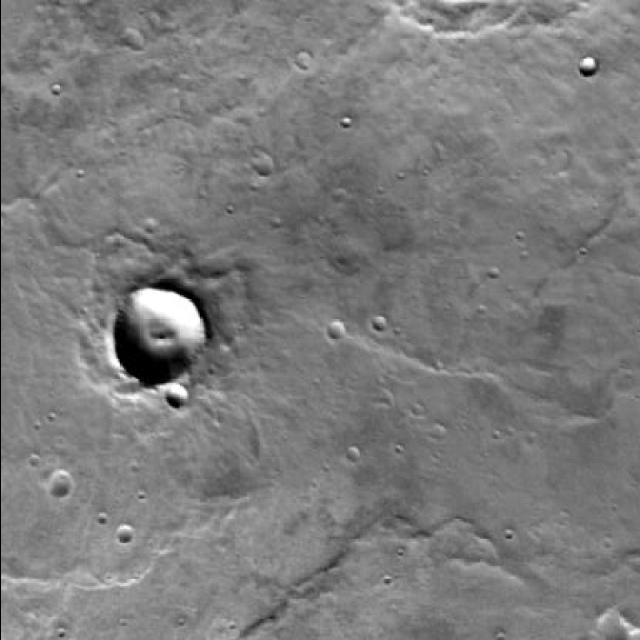crater: (111, 290, 206, 387), (596, 605, 630, 640), (167, 383, 190, 406), (48, 474, 68, 496), (124, 29, 144, 51), (255, 156, 273, 176), (578, 56, 596, 74), (324, 320, 342, 338), (115, 522, 132, 540), (296, 50, 312, 67)
